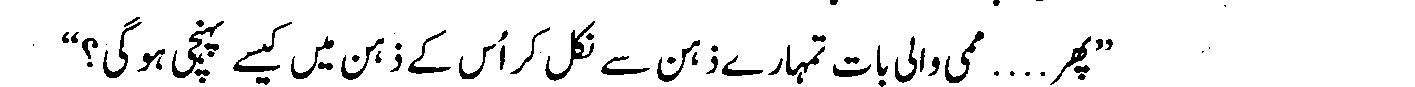bay_shosha: (874, 61, 887, 86)
